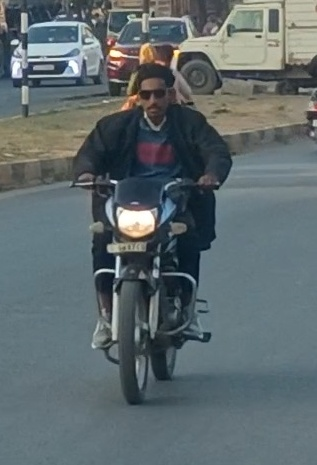BikeWithRider: (62, 58, 239, 409)
NoHelmet: (126, 60, 182, 120)
